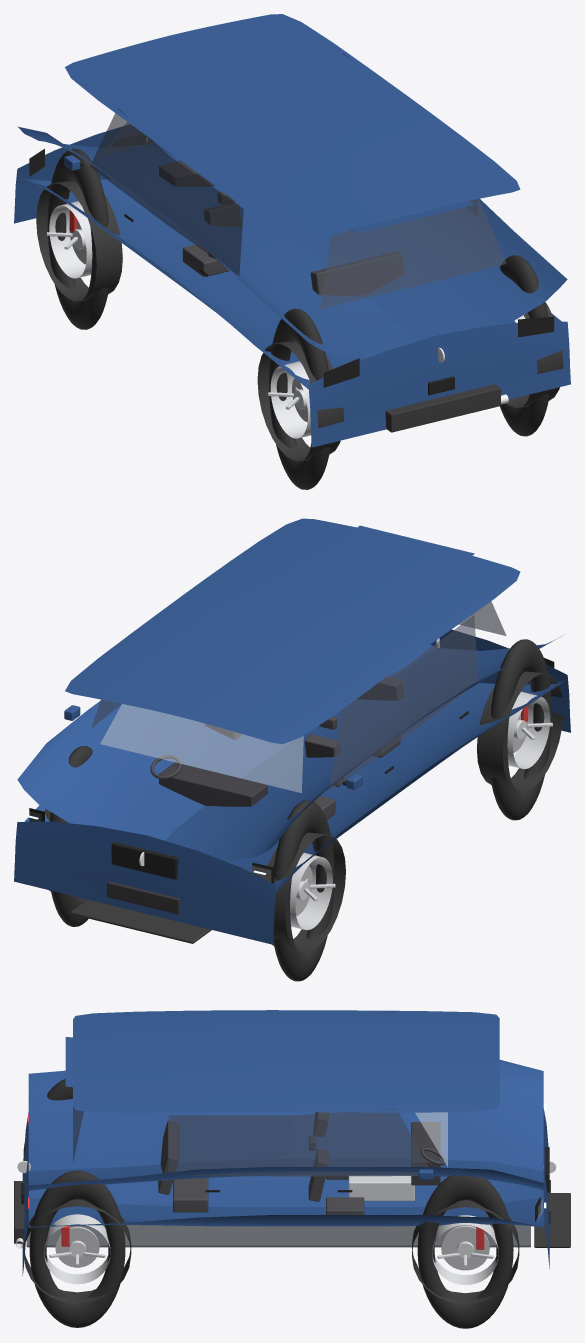
The model's file is Car_GolfMk7_Hatchback.glb.
3 views of the same model, one above another, from view 1: azimuth 30°, elevation 25°; view 2: azimuth 150°, elevation 25°; view 3: azimuth 270°, elevation 25° (orthographic). The views are drawn at different scales.
Parts seen in each view (by area): view 1: GEO_Roof, GEO_Body_Upper, GEO_Bumper_Rear, GEO_RearWindow, GEO_RearWindow.001, GEO_Body_Main, GEO_Window_RR, GEO_Window_RR.001, GEO_Window_FR, GEO_Window_FR.001, GEO_Tire_FR, GEO_Tire_RR (+14 smaller); view 2: GEO_Roof, GEO_Body_Upper, GEO_Bumper_Front, GEO_Body_Main, GEO_Windshield, GEO_Windshield.001, GEO_Window_FR, GEO_Window_FR.001, GEO_Window_RR, GEO_Tire_RR, GEO_Window_RR.001, GEO_Tire_FR (+14 smaller); view 3: GEO_Roof, GEO_Body_Upper, GEO_Body_Main, GEO_Underbody, GEO_Window_FL, GEO_Window_RL, GEO_Window_RL.001, GEO_Window_FL.001, GEO_Tire_RL, GEO_Tire_FL, GEO_Seat_Rear, GEO_Console (+17 smaller).
Boxes of the visible parts, x1=… form: GEO_Roof: x1=65, y1=14, x2=520, y2=242; GEO_Body_Upper: x1=18, y1=126, x2=567, y2=358; GEO_Bumper_Rear: x1=308, y1=321, x2=570, y2=447; GEO_RearWindow: x1=320, y1=199, x2=506, y2=308; GEO_RearWindow.001: x1=320, y1=199, x2=505, y2=308; GEO_Body_Main: x1=22, y1=178, x2=561, y2=389; GEO_Window_RR: x1=167, y1=157, x2=243, y2=275; GEO_Window_RR.001: x1=167, y1=157, x2=243, y2=275; GEO_Window_FR: x1=90, y1=108, x2=169, y2=223; GEO_Window_FR.001: x1=90, y1=109, x2=169, y2=223; GEO_Tire_FR: x1=47, y1=148, x2=108, y2=329; GEO_Tire_RR: x1=269, y1=308, x2=329, y2=489; GEO_Roof: x1=65, y1=518, x2=520, y2=744; GEO_Body_Upper: x1=17, y1=634, x2=564, y2=860; GEO_Bumper_Front: x1=14, y1=821, x2=276, y2=944; GEO_Body_Main: x1=24, y1=680, x2=566, y2=892; GEO_Windshield: x1=100, y1=704, x2=303, y2=792; GEO_Windshield.001: x1=101, y1=704, x2=303, y2=792; GEO_Window_FR: x1=329, y1=666, x2=408, y2=790; GEO_Window_FR.001: x1=329, y1=666, x2=408, y2=790; GEO_Window_RR: x1=407, y1=615, x2=478, y2=733; GEO_Tire_RR: x1=491, y1=639, x2=551, y2=820; GEO_Window_RR.001: x1=407, y1=615, x2=478, y2=733; GEO_Tire_FR: x1=273, y1=800, x2=334, y2=981; GEO_Roof: x1=73, y1=1010, x2=499, y2=1113; GEO_Body_Upper: x1=28, y1=1060, x2=543, y2=1190; GEO_Body_Main: x1=28, y1=1175, x2=543, y2=1227; GEO_Underbody: x1=26, y1=1224, x2=530, y2=1247; GEO_Window_FL: x1=294, y1=1109, x2=427, y2=1176; GEO_Window_RL: x1=169, y1=1115, x2=293, y2=1176; GEO_Window_RL.001: x1=169, y1=1115, x2=293, y2=1176; GEO_Window_FL.001: x1=294, y1=1109, x2=427, y2=1176; GEO_Tire_RL: x1=29, y1=1170, x2=125, y2=1327; GEO_Tire_FL: x1=417, y1=1175, x2=513, y2=1328; GEO_Seat_Rear: x1=158, y1=1120, x2=208, y2=1212; GEO_Console: x1=348, y1=1176, x2=414, y2=1200.
Size of the model in its own units: 2.02 by 1.67 by 3.78.
